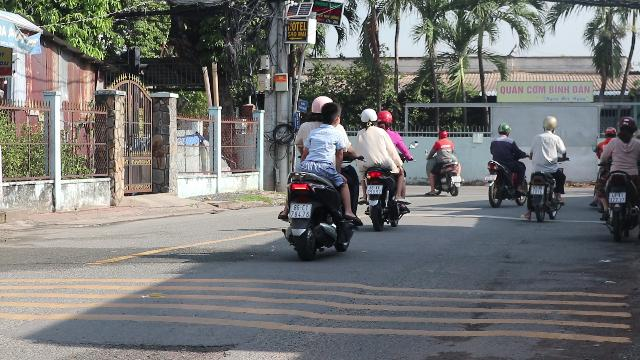helmet: (616, 116, 638, 138), (310, 95, 332, 113), (359, 108, 377, 127), (376, 109, 392, 128)
licenseplate: (289, 203, 311, 217), (609, 192, 625, 202), (366, 185, 382, 194)
motorcyclist: (276, 94, 362, 260), (352, 108, 412, 228), (590, 116, 640, 240)
nohelmet: (319, 101, 341, 125)
